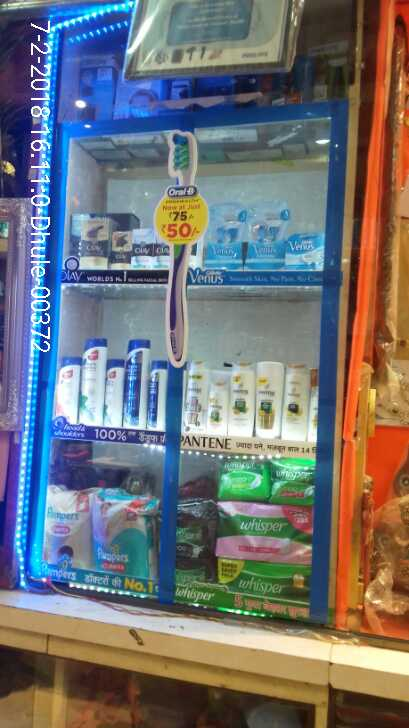venus: (205, 202, 249, 267), (249, 202, 287, 263), (287, 227, 327, 263)
